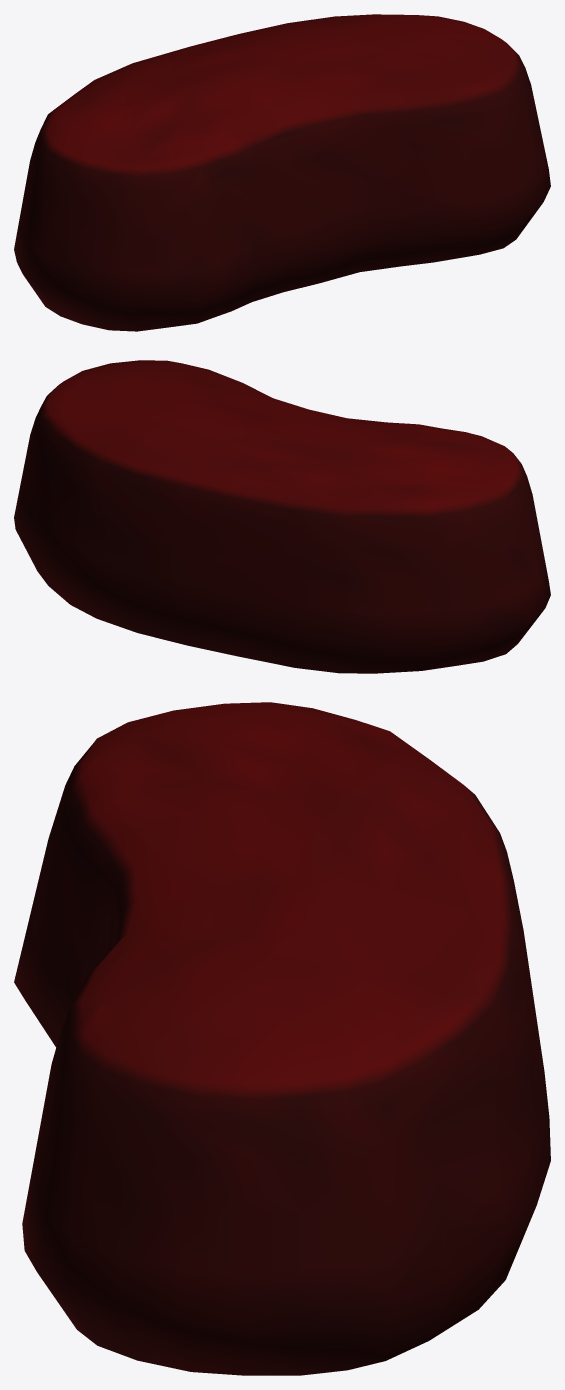
Rendered from geology-landforms-greenhillmedium_v5.fbx.
3 renders of one model, top to bottom at view 1: azimuth 30°, elevation 25°; view 2: azimuth 150°, elevation 25°; view 3: azimuth 270°, elevation 25°, orthographic. The views are drawn at different scales.
Parts seen in each view (by area): view 1: GreenHillMedium_v5; view 2: GreenHillMedium_v5; view 3: GreenHillMedium_v5.
Part boxes in pixels (x1,y1,x2,y2): GreenHillMedium_v5: (14,14,550,331); GreenHillMedium_v5: (14,360,550,673); GreenHillMedium_v5: (14,702,550,1375).
Size of the model in its own units: 51.87 by 17.23 by 26.92.
